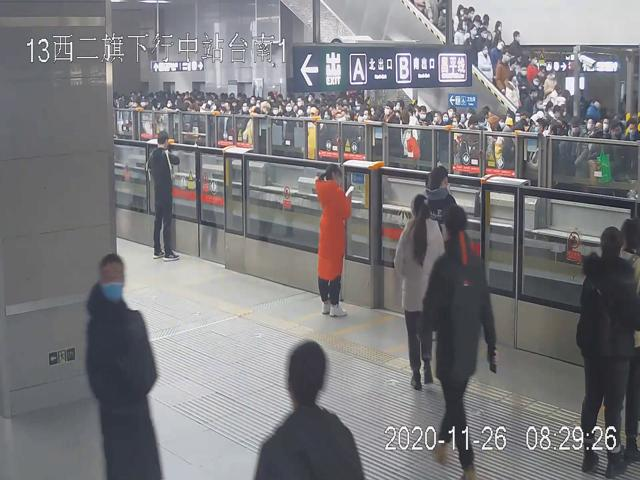person: (423, 204, 498, 480), (85, 251, 161, 480), (578, 227, 637, 480), (394, 195, 445, 390), (315, 165, 350, 316), (148, 130, 180, 262)
